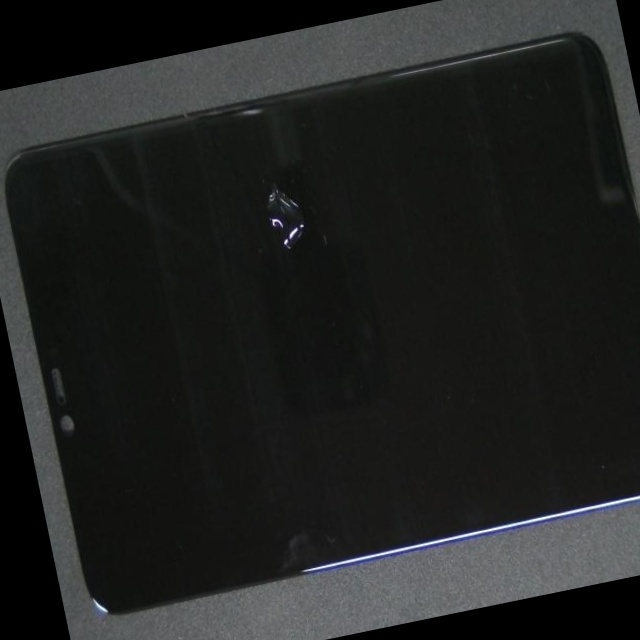oil: (126, 83, 416, 299)
